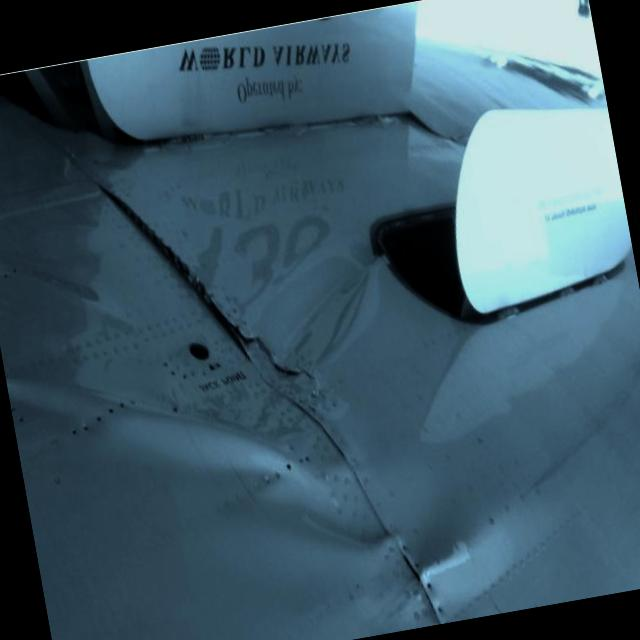crack: (235, 314, 316, 392)
